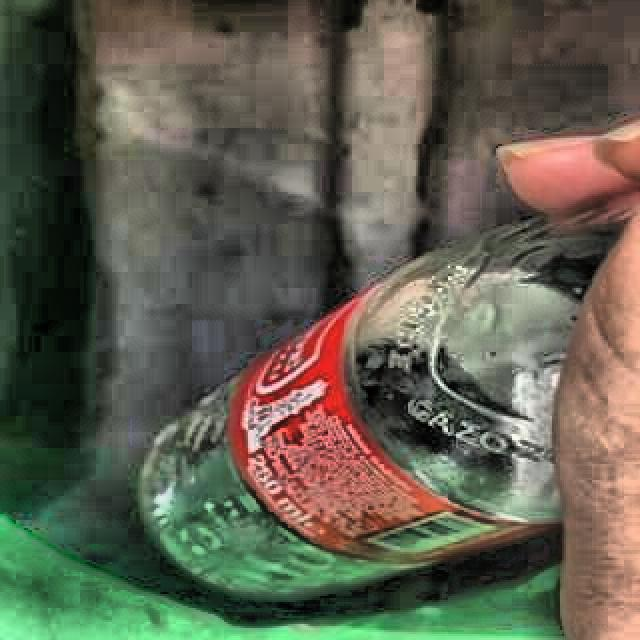glass: (141, 214, 625, 599)
